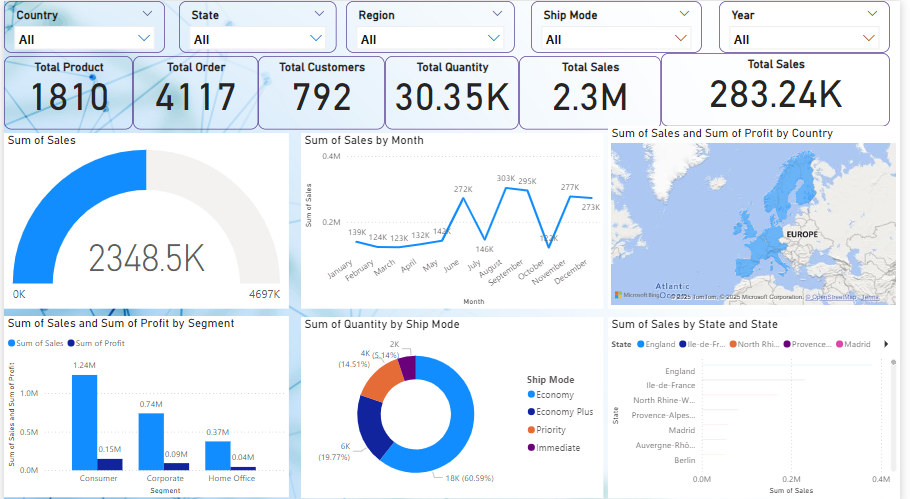

This screenshot's page, from the dashboard's own definition file:
{"tool":"powerbi","page":{"name":"Page 1","canvas":[1280,720],"ordinal":0},"visuals":[{"type":"slicer","fields":{"Values":["ListOfOrders.Country"]},"box":[0,0,229.6,73.7],"z":0},{"type":"slicer","fields":{"Values":["ListOfOrders.State"]},"box":[249.4,0,225.4,73.7],"z":1000},{"type":"slicer","fields":{"Values":["ListOfOrders.Region"]},"box":[489,0,240.9,73.7],"z":2000},{"type":"slicer","fields":{"Values":["ListOfOrders.Ship Mode"]},"box":[752.6,0,243.8,73.7],"z":3000},{"type":"slicer","fields":{"Values":["ListOfOrders.Ship Date.Variation.Date Hierarchy.Year"]},"box":[1021.9,0,243.8,73.7],"z":4000},{"type":"card","title":"Total Product","fields":{"Values":["Count(OrderBreakdown.Product Name)"]},"box":[0,78,184.3,104.9],"z":5000},{"type":"card","title":"Total Order","fields":{"Values":["CountNonNull(ListOfOrders.Order ID)"]},"box":[184.3,78,178.6,104.9],"z":6000},{"type":"card","title":"Total Customers","fields":{"Values":["Count(ListOfOrders.Customer Name)"]},"box":[362.8,78,181.4,104.9],"z":7000},{"type":"card","title":"Total Quantity","fields":{"Values":["Sum(OrderBreakdown.Quantity)"]},"box":[544.3,78,191.3,104.9],"z":8000},{"type":"card","title":"Total Sales","fields":{"Values":["Sum(OrderBreakdown.Sales)"]},"box":[735.6,78,202.7,104.9],"z":9000},{"type":"card","title":"Total Sales","fields":{"Values":["Sum(OrderBreakdown.Profit)"]},"box":[938.3,73.7,327.4,104.9],"z":10000},{"type":"filledMap","fields":{"Category":["ListOfOrders.Country"]},"box":[863.1,178.6,416.7,260.8],"z":11000},{"type":"gauge","fields":{"Y":["Sum(OrderBreakdown.Sales)"]},"box":[0,188.5,406.8,250.9],"z":12000},{"type":"lineChart","fields":{"Category":["ListOfOrders.Order Date.Variation.Date Hierarchy.Year","ListOfOrders.Order Date.Variation.Date Hierarchy.Quarter","ListOfOrders.Order Date.Variation.Date Hierarchy.Month","ListOfOrders.Order Date.Variation.Date Hierarchy.Day"],"Y":["Sum(OrderBreakdown.Sales)"]},"box":[423.8,188.5,432.3,250.9],"z":13000},{"type":"clusteredColumnChart","fields":{"Category":["ListOfOrders.Segment"],"Y":["Sum(OrderBreakdown.Sales)","Sum(OrderBreakdown.Profit)"]},"box":[0,450.7,406.8,259.4],"z":14000},{"type":"donutChart","fields":{"Category":["ListOfOrders.Ship Mode"],"Y":["Sum(OrderBreakdown.Quantity)"]},"box":[424,451,432,259],"z":15000},{"type":"clusteredBarChart","fields":{"Series":["ListOfOrders.State"],"Y":["Sum(OrderBreakdown.Sales)"],"Category":["ListOfOrders.State"]},"box":[863,451,417,259],"z":16000}]}

Visuals, with their boxes in screenshot pixels (x1, y1, x2, y2), scaled from the page's 1280x720 canvas onto the 910x499 screenshot:
slicer - ListOfOrders.Country: 0/0/163/51
slicer - ListOfOrders.State: 177/0/338/51
slicer - ListOfOrders.Region: 348/0/519/51
slicer - ListOfOrders.Ship Mode: 535/0/708/51
slicer - ListOfOrders.Ship Date.Variation.Date Hierarchy.Year: 727/0/900/51
"Total Product" card: 0/54/131/127
"Total Order" card: 131/54/258/127
"Total Customers" card: 258/54/387/127
"Total Quantity" card: 387/54/523/127
"Total Sales" card: 523/54/667/127
"Total Sales" card: 667/51/900/124
filledMap - ListOfOrders.Country: 614/124/909/305
gauge - Sum(OrderBreakdown.Sales): 0/131/289/305
lineChart - ListOfOrders.Order Date.Variation.Date Hierarchy.Year x ListOfOrders.Order Date.Variation.Date Hierarchy.Quarter: 301/131/609/305
clusteredColumnChart - ListOfOrders.Segment x Sum(OrderBreakdown.Sales): 0/312/289/492
donutChart - ListOfOrders.Ship Mode x Sum(OrderBreakdown.Quantity): 301/313/609/492
clusteredBarChart - ListOfOrders.State x Sum(OrderBreakdown.Sales): 614/313/909/492
